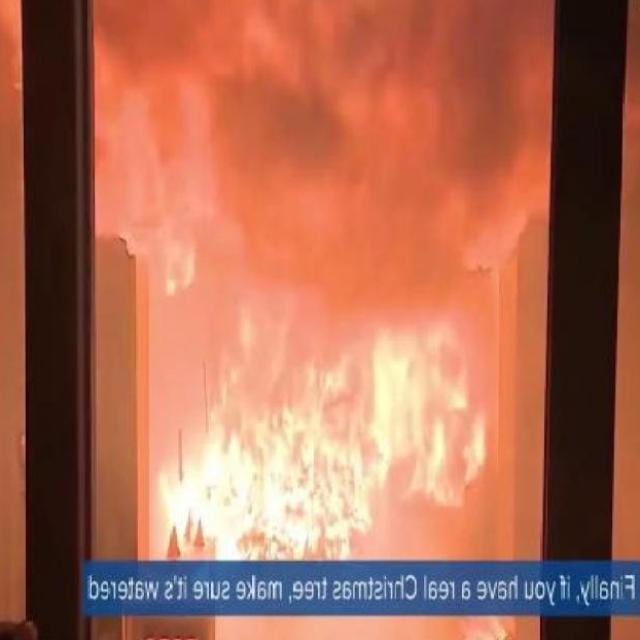fire: (97, 0, 552, 327)
smoke: (160, 337, 488, 556)
